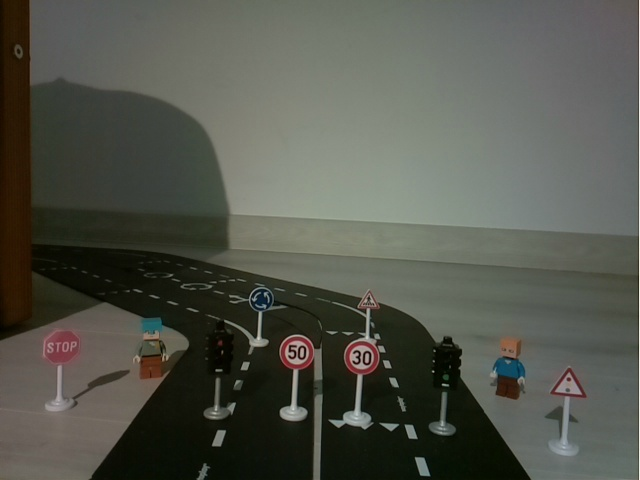green light: (425, 335, 467, 439)
limit 30: (341, 338, 381, 432)
limit 50: (278, 330, 313, 427)
pedestrian sign: (353, 286, 382, 336)
person: (485, 333, 529, 403)
red light: (198, 324, 239, 424)
round: (244, 284, 275, 351)
second person: (129, 315, 175, 384)
stop: (40, 324, 86, 418)
traffic light sign: (543, 360, 588, 461)
